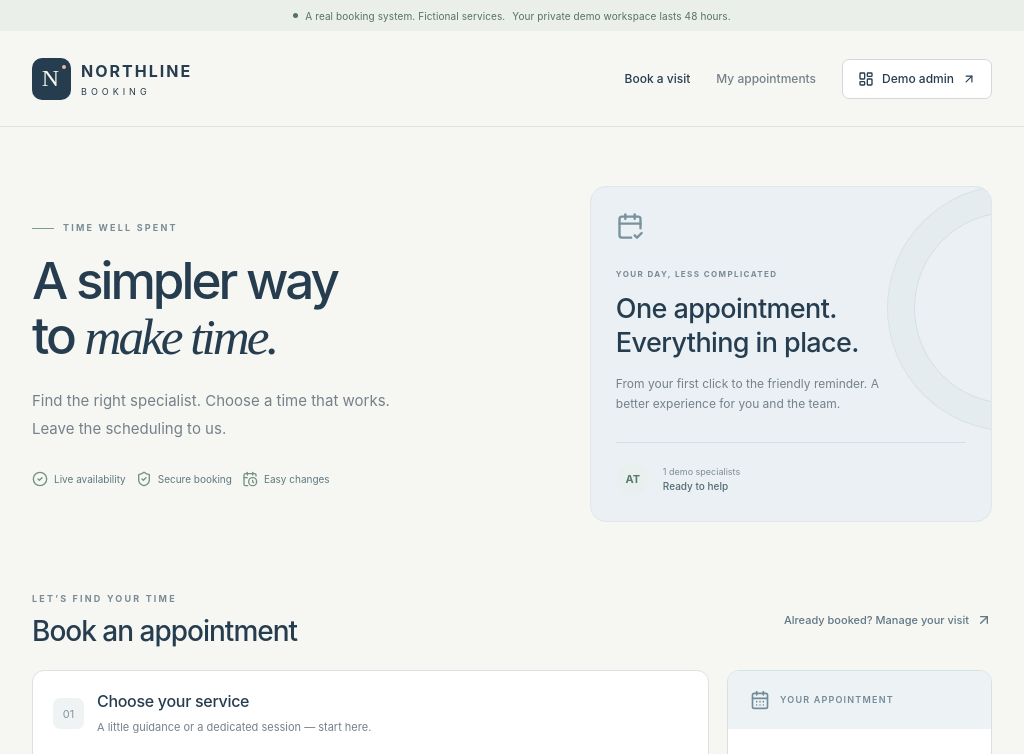
Test: restores the appointments view from the backend
This screenshot has width=1024, height=754.
Expected: the heading "Book an appointment" is shown, [32,615,297,647]
Step 1. Click the button "My appointments" → {"x": 766, "y": 78}, box [716,61,816,96]
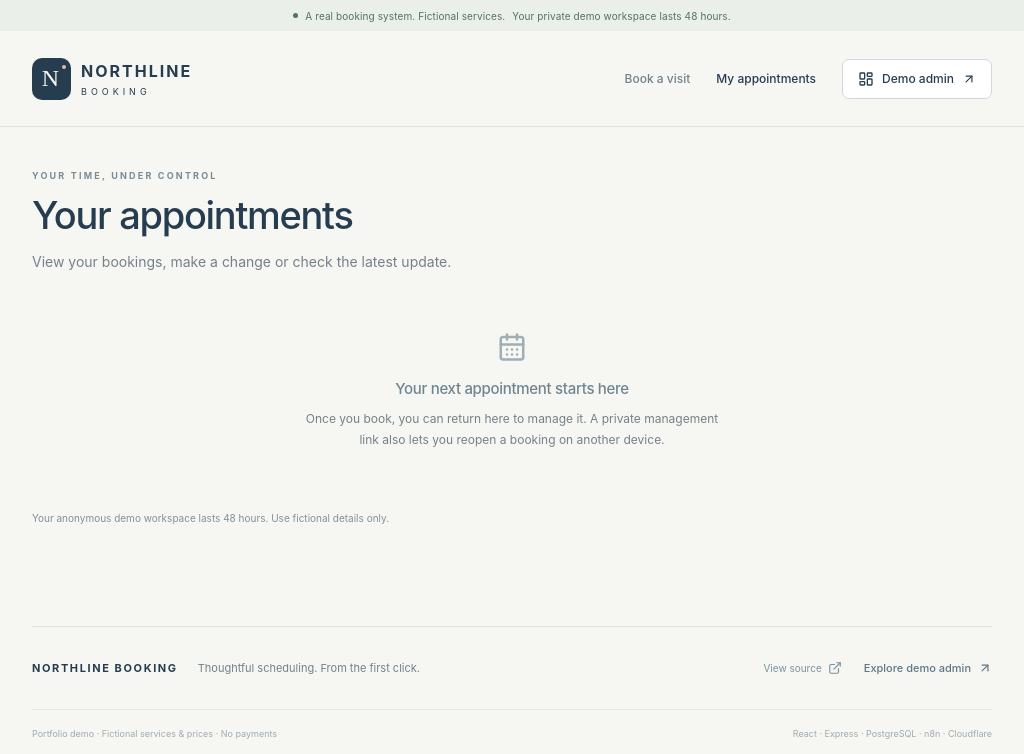
Result: the heading "Your appointments" is shown at [32,192,353,238]
Result: the heading "Your next appointment starts here" is shown at [395,379,629,398]
